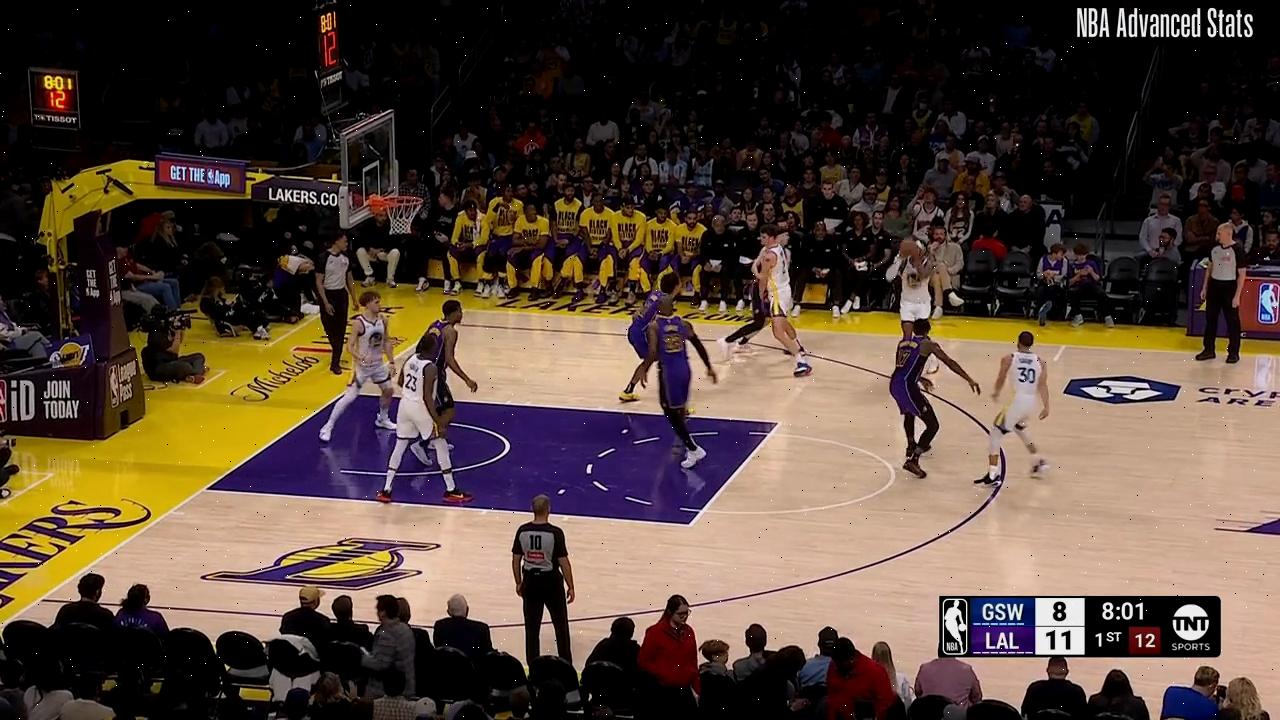basketball: (899, 236, 919, 261)
